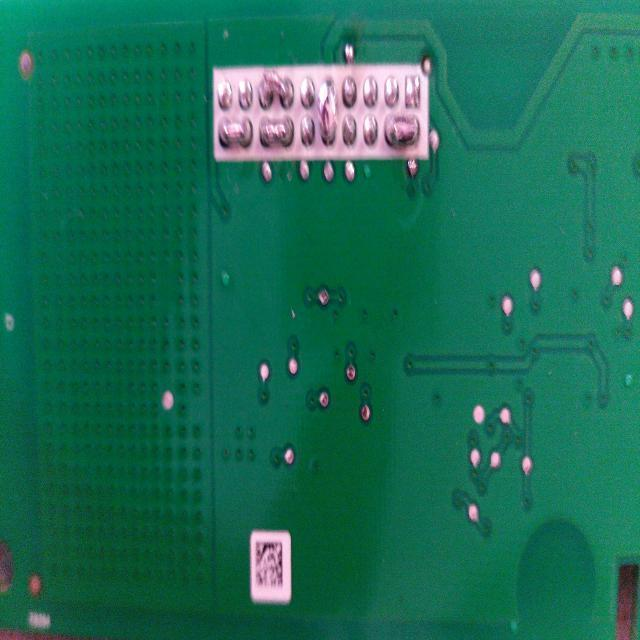Soldering shorted: (255, 63, 296, 114), (317, 70, 338, 155), (257, 114, 297, 154), (382, 112, 422, 150), (216, 112, 256, 148)
